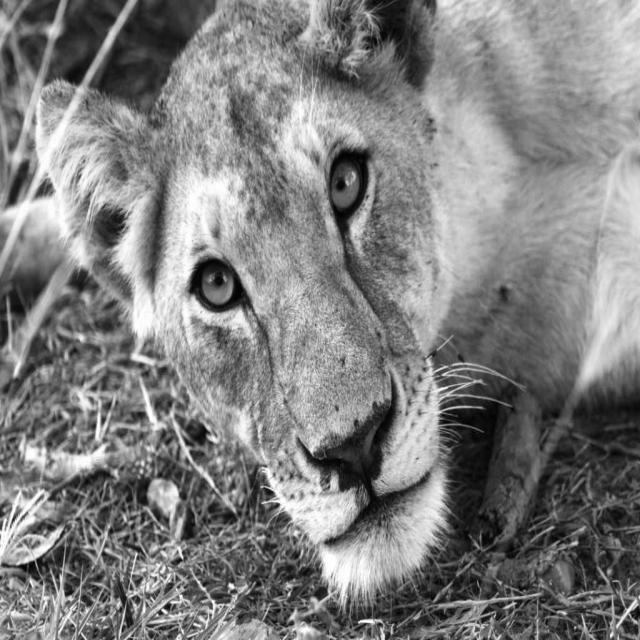Lion: (51, 7, 640, 640)
